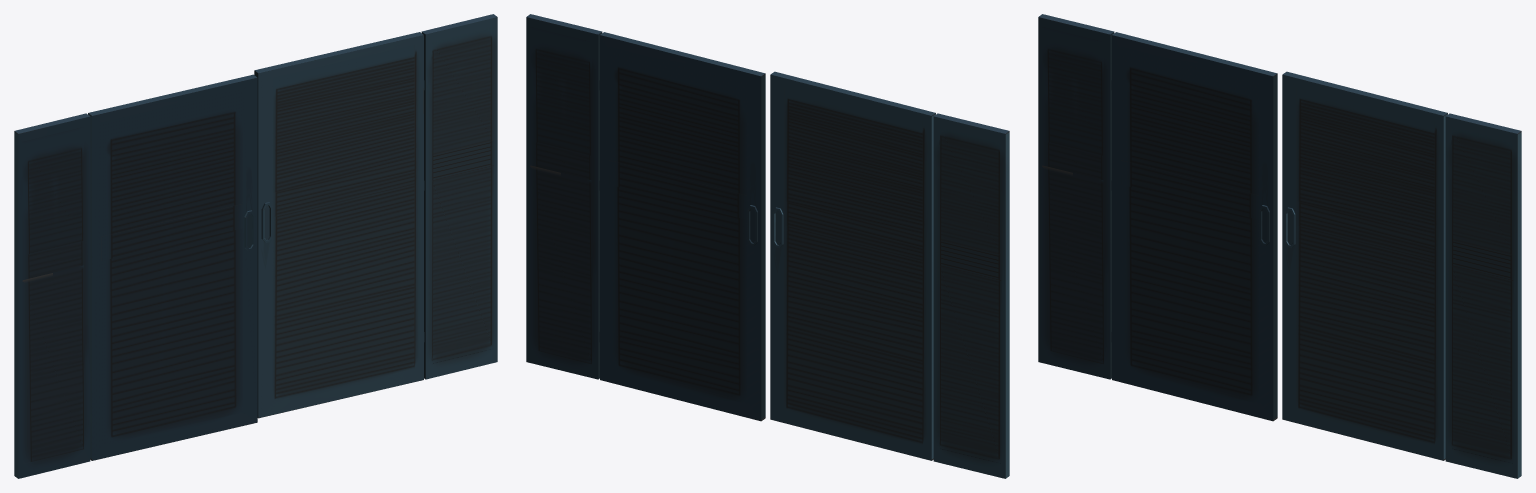
File: persiana.fbx
3 views of the same model, side by side, from view 1: azimuth 30°, elevation 25°; view 2: azimuth 150°, elevation 25°; view 3: azimuth 330°, elevation 25° (orthographic).
Parts seen in each view (by area): view 1: perciana direita, perciana esquerda, parte direita, parte esquerda; view 2: perciana esquerda, perciana direita, parte direita, parte esquerda; view 3: perciana direita, perciana esquerda, parte esquerda, parte direita.
Part boxes in pixels (left/top/right/bottom): perciana direita: left=88, top=74, right=257, bottom=460; perciana esquerda: left=254, top=32, right=424, bottom=418; parte direita: left=14, top=113, right=90, bottom=478; parte esquerda: left=421, top=14, right=497, bottom=379; perciana esquerda: left=599, top=32, right=765, bottom=421; perciana direita: left=770, top=71, right=935, bottom=460; parte direita: left=933, top=113, right=1009, bottom=478; parte esquerda: left=526, top=14, right=602, bottom=379; perciana direita: left=1111, top=32, right=1277, bottom=421; perciana esquerda: left=1282, top=71, right=1447, bottom=460; parte esquerda: left=1445, top=113, right=1521, bottom=478; parte direita: left=1038, top=14, right=1114, bottom=379.
Bounding box in the file's own units: 411 × 282 × 15.21.
2 materials, 2 textured.
